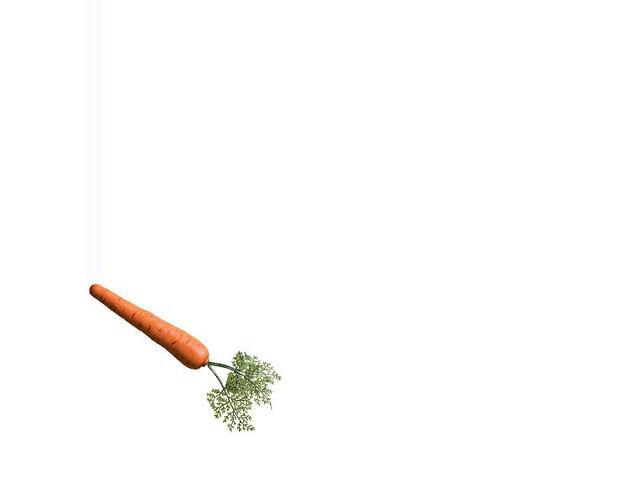carrot: (86, 284, 212, 373)
